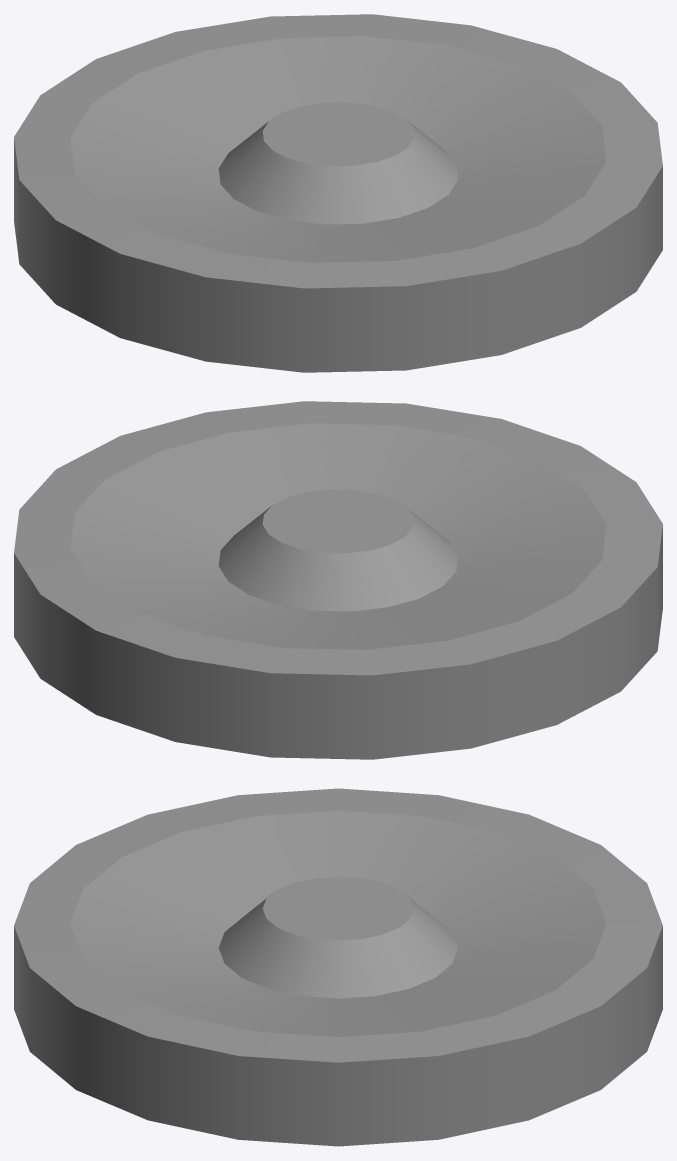
The model's file is link_wheel.3obj.obj.
The picture shows the model from 3 angles, top to bottom: view 1: azimuth 30°, elevation 25°; view 2: azimuth 150°, elevation 25°; view 3: azimuth 270°, elevation 25°; orthographic projection.
Visible parts, largest first — view 1: link_wheel whole_robot; view 2: link_wheel whole_robot; view 3: link_wheel whole_robot.
Boxes of the visible parts, box(x1,y1,x2,y2) form: link_wheel whole_robot: box(14, 14, 662, 372); link_wheel whole_robot: box(14, 401, 662, 759); link_wheel whole_robot: box(14, 788, 662, 1146).
Size of the model in its own units: 0.1284 by 0.0257 by 0.1284.
1 material, 1 textured.
